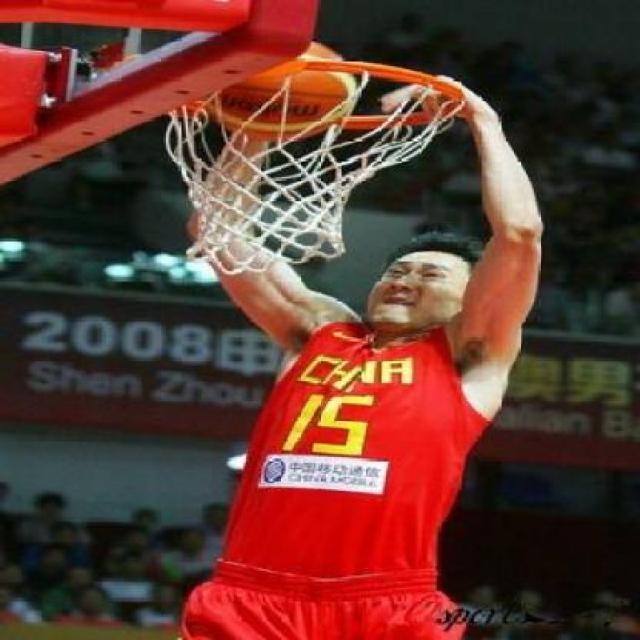rim: (160, 62, 466, 270)
